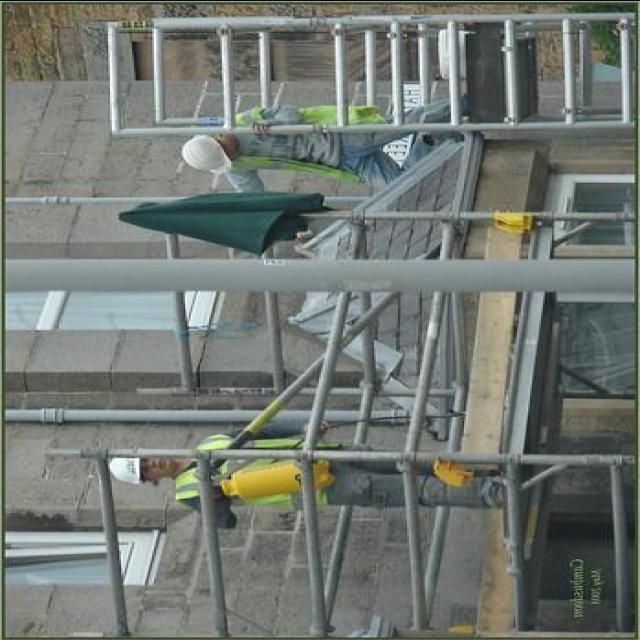helmet: (172, 132, 238, 176), (102, 450, 152, 490)
jacket: (229, 99, 393, 192), (170, 432, 336, 514)
